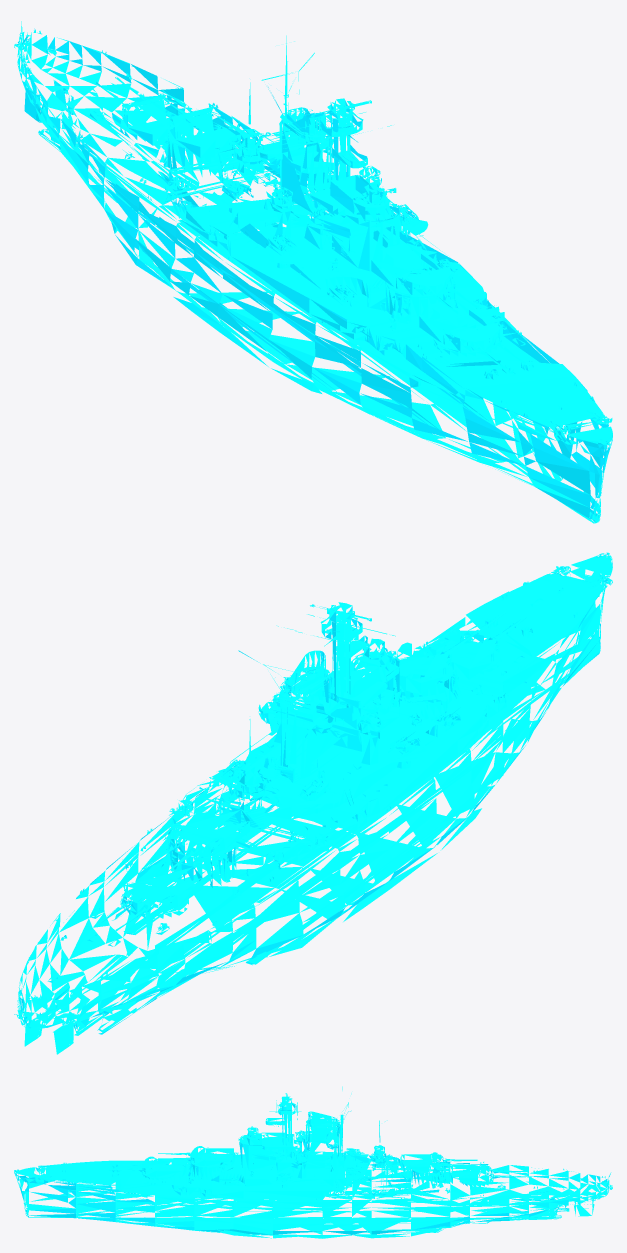
Rendered from Bayern.glb.
The picture shows the model from 3 angles, top to bottom: view 1: azimuth 30°, elevation 25°; view 2: azimuth 150°, elevation 25°; view 3: azimuth 270°, elevation 25°; orthographic projection. The views are drawn at different scales.
Bounding box in the file's own units: 2.12 × 3.04 × 12.27.
